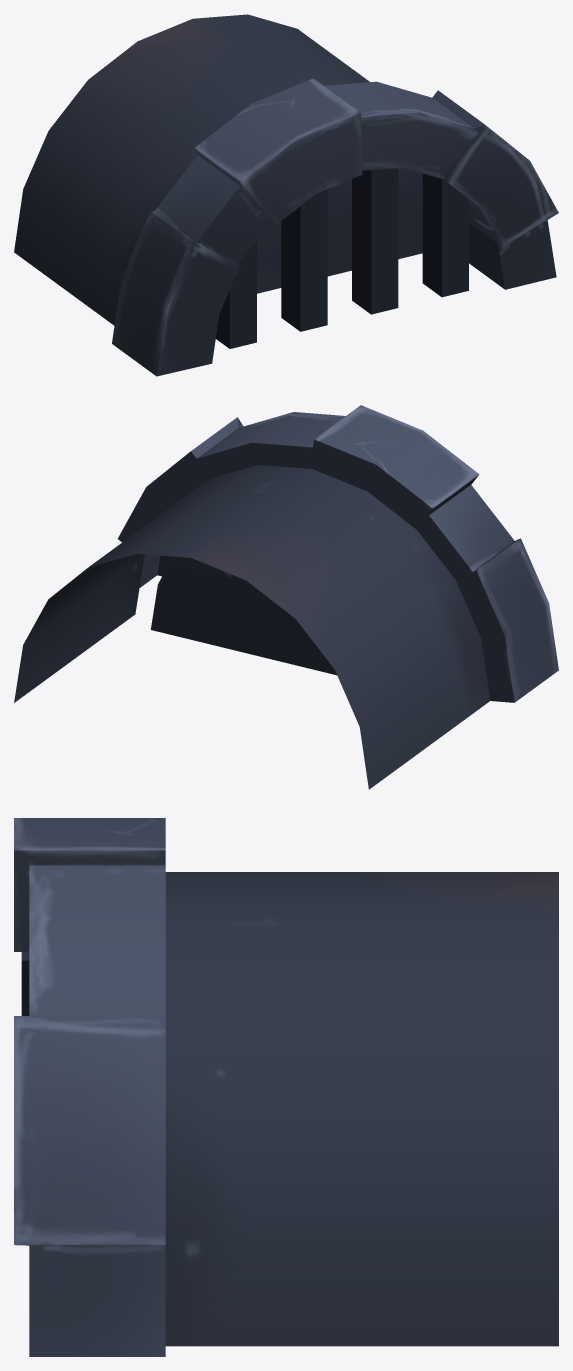
File: DungeonDrains.fbx
3 renders of one model, top to bottom at view 1: azimuth 30°, elevation 25°; view 2: azimuth 150°, elevation 25°; view 3: azimuth 270°, elevation 25°, orthographic. The views are drawn at different scales.
Parts seen in each view (by area): view 1: pCylinder4; view 2: pCylinder4; view 3: pCylinder4.
Part boxes in pixels (bbox=[...]): pCylinder4: bbox=[14, 14, 558, 376]; pCylinder4: bbox=[14, 405, 558, 789]; pCylinder4: bbox=[14, 818, 558, 1356].
Bounding box in the file's own units: 97.6 × 51.07 × 71.2.
